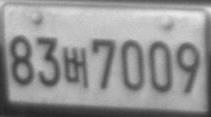0: (148, 39, 174, 94), (119, 38, 145, 91)
3: (36, 35, 61, 87)
7: (90, 37, 116, 90)
8: (8, 34, 35, 86)
9: (175, 41, 201, 94)
버: (61, 46, 89, 89)
